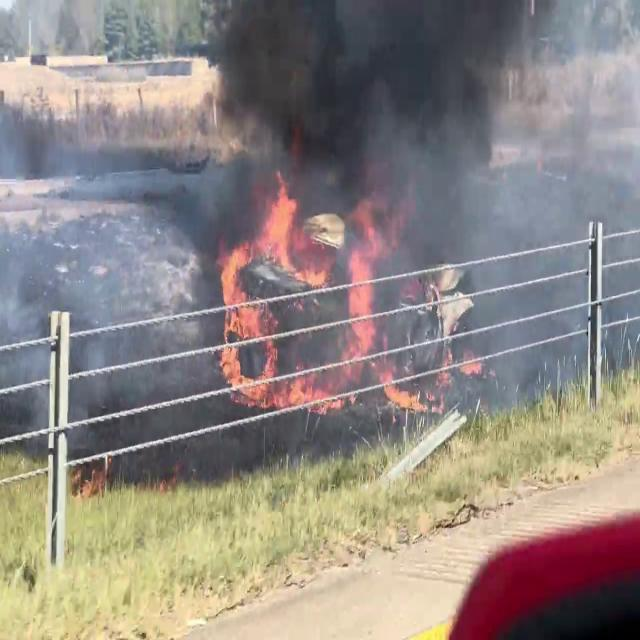Fire: (212, 241, 276, 395)
Smoke: (188, 0, 526, 381)
